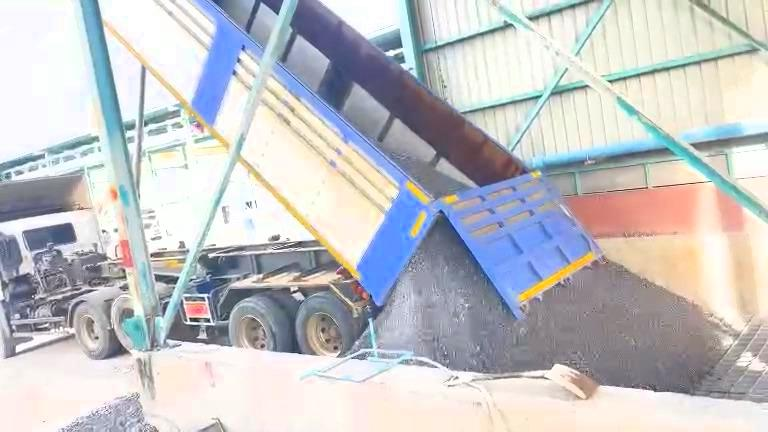gravel: (376, 220, 730, 392), (372, 140, 468, 196), (59, 393, 157, 431)
